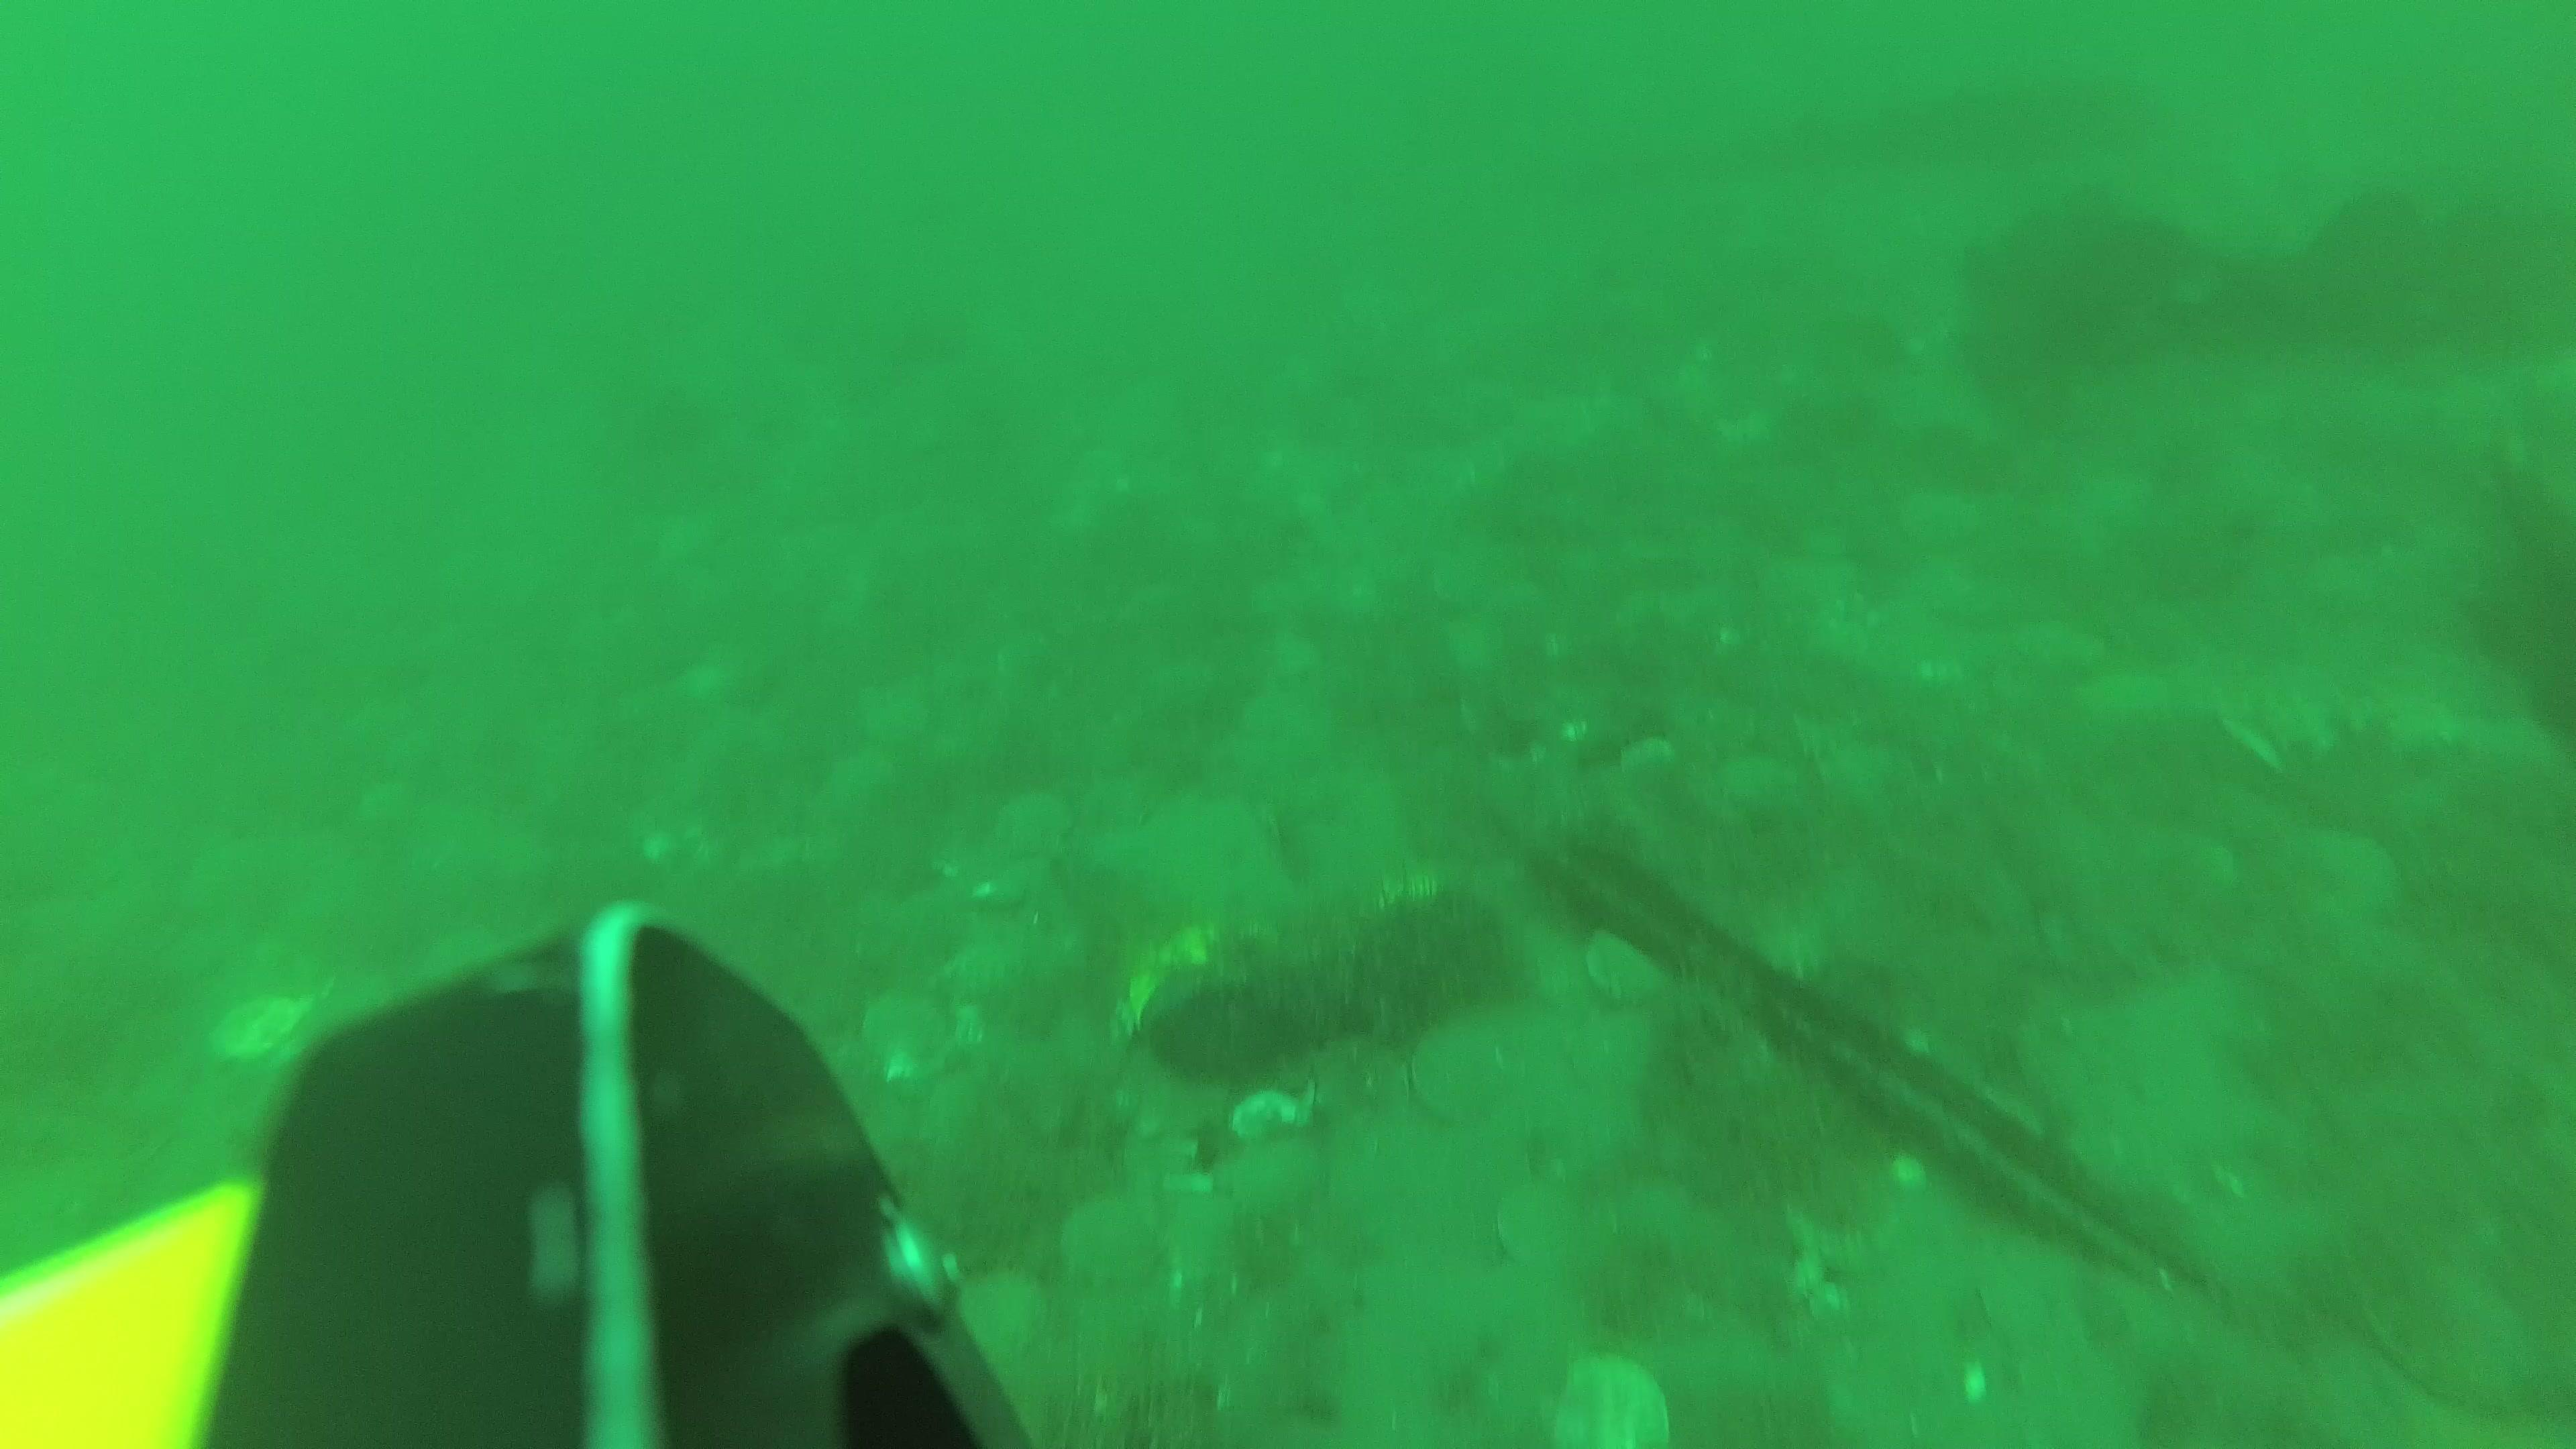scallop: (2365, 1254, 2555, 1412), (1566, 1345, 1679, 1449), (2284, 821, 2390, 931), (1226, 1134, 1334, 1228), (1049, 1196, 1157, 1288), (950, 1254, 1047, 1352), (1493, 1182, 1594, 1276), (1414, 1023, 1511, 1115), (863, 984, 954, 1081), (209, 987, 306, 1070), (1583, 927, 1674, 1014), (996, 789, 1069, 847)
